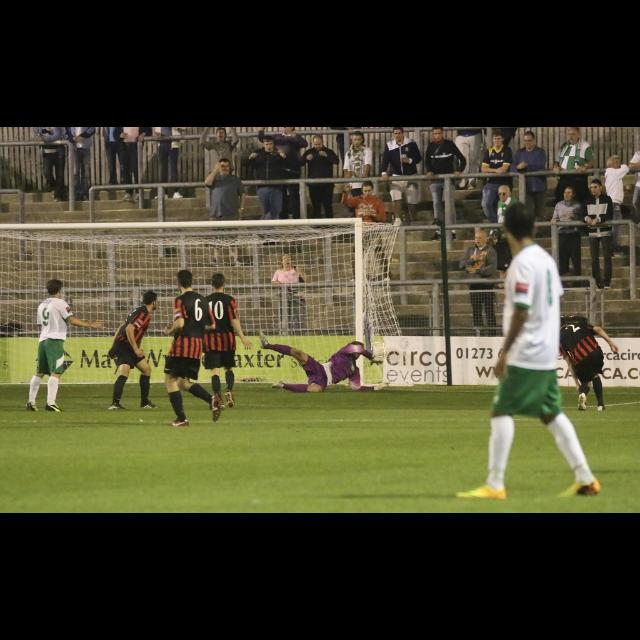Football: (372, 343, 384, 357)
